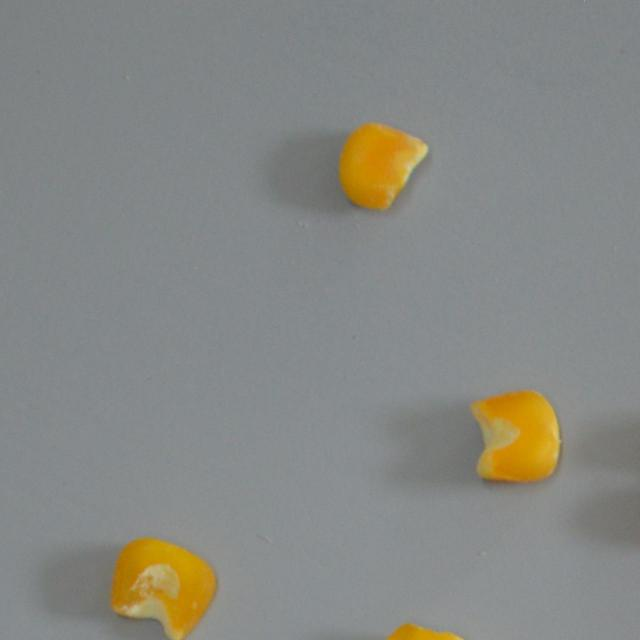dañado: (105, 534, 219, 640), (466, 385, 564, 490), (334, 118, 432, 215), (360, 615, 487, 640)
